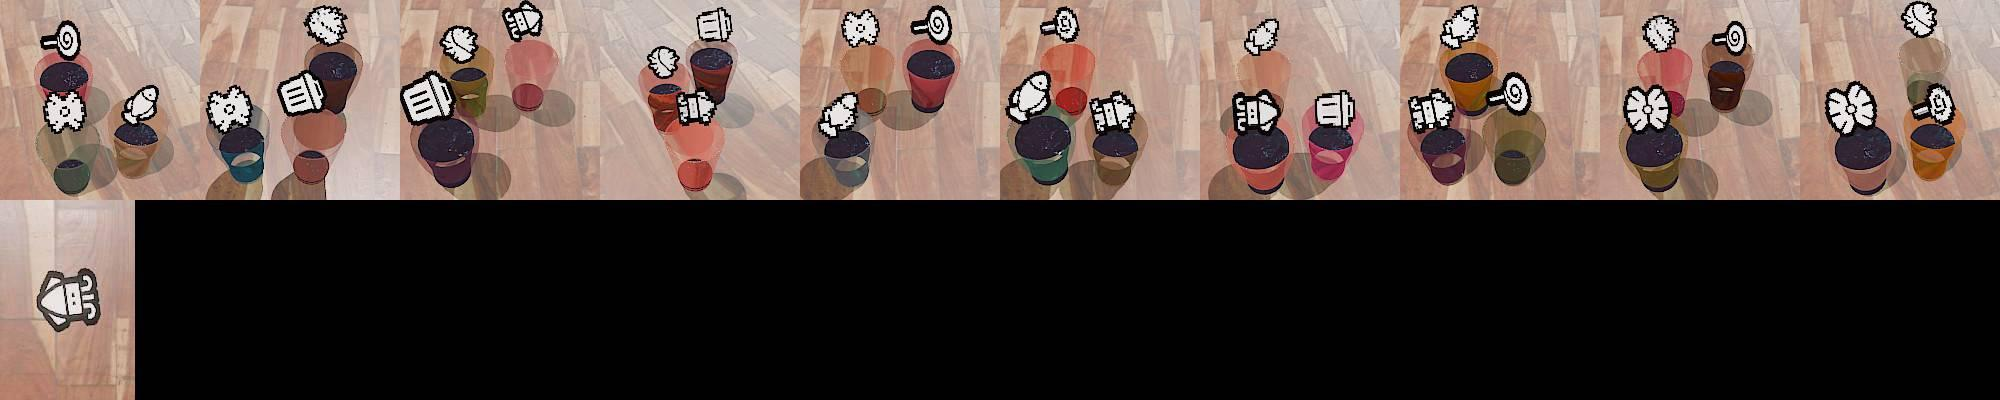icon: (36, 268, 102, 331), (399, 70, 455, 125), (1824, 80, 1878, 136), (1006, 70, 1054, 125), (1624, 83, 1673, 134), (276, 68, 327, 117), (1231, 88, 1283, 136), (205, 84, 254, 132), (1089, 89, 1138, 134), (1408, 87, 1455, 131), (1487, 71, 1534, 116), (1437, 5, 1480, 52), (818, 90, 858, 139), (42, 89, 87, 132), (304, 4, 348, 46), (1312, 89, 1356, 131), (501, 0, 543, 42), (1916, 83, 1957, 126), (41, 20, 83, 61), (839, 9, 880, 50), (1038, 6, 1079, 46), (439, 24, 480, 64), (122, 83, 161, 125), (909, 5, 952, 43), (1640, 15, 1680, 54), (676, 88, 716, 125), (1712, 20, 1750, 57), (1244, 17, 1279, 56), (695, 6, 732, 43), (1901, 1, 1937, 38), (647, 46, 681, 79)
